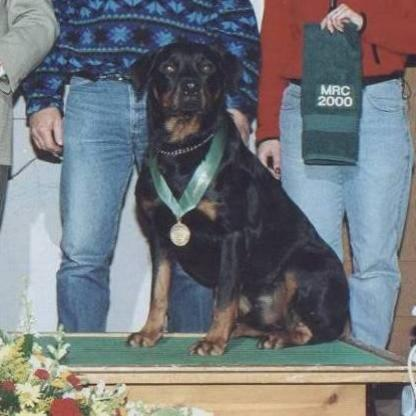Rottweiler: (115, 34, 353, 358)
